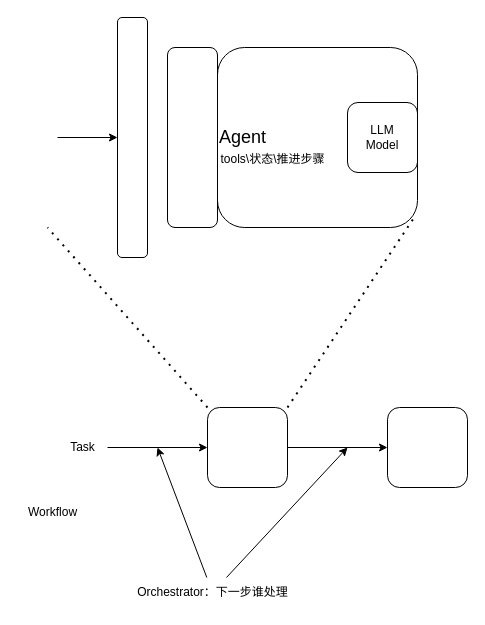
The diagram is 485 pixels wide and 625 high, and some of its shapes have lost their labels. Here are the shapes that lost their labels. From the top down, the centre of each, then its label:
(132,137): sub agent
(192,137): Role
